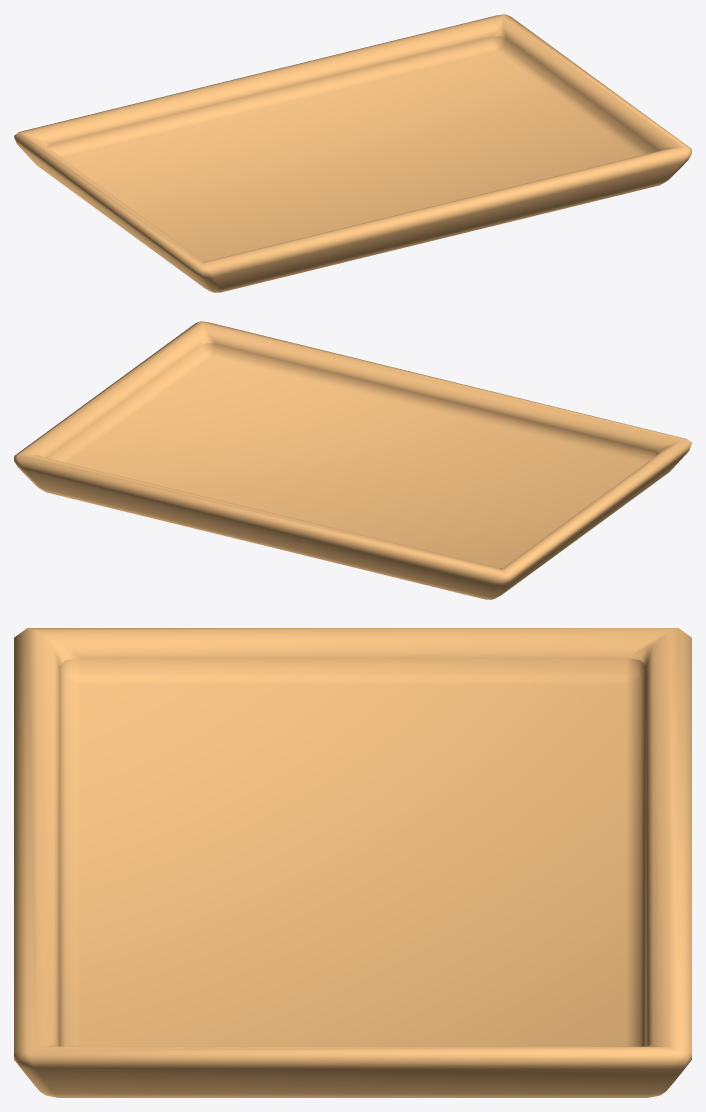
Rendered from Plate4.fbx.
3 views of the same model, one above another, from view 1: azimuth 30°, elevation 25°; view 2: azimuth 150°, elevation 25°; view 3: azimuth 270°, elevation 25° (orthographic). The views are drawn at different scales.
Parts seen in each view (by area): view 1: Plate4; view 2: Plate4; view 3: Plate4.
Part boxes in pixels (box(x1,y1,x2,y2)): Plate4: box(14, 14, 691, 292); Plate4: box(14, 321, 691, 599); Plate4: box(14, 628, 691, 1097).
Bounding box in the file's own units: 2.83 × 1.88 × 0.2059.
